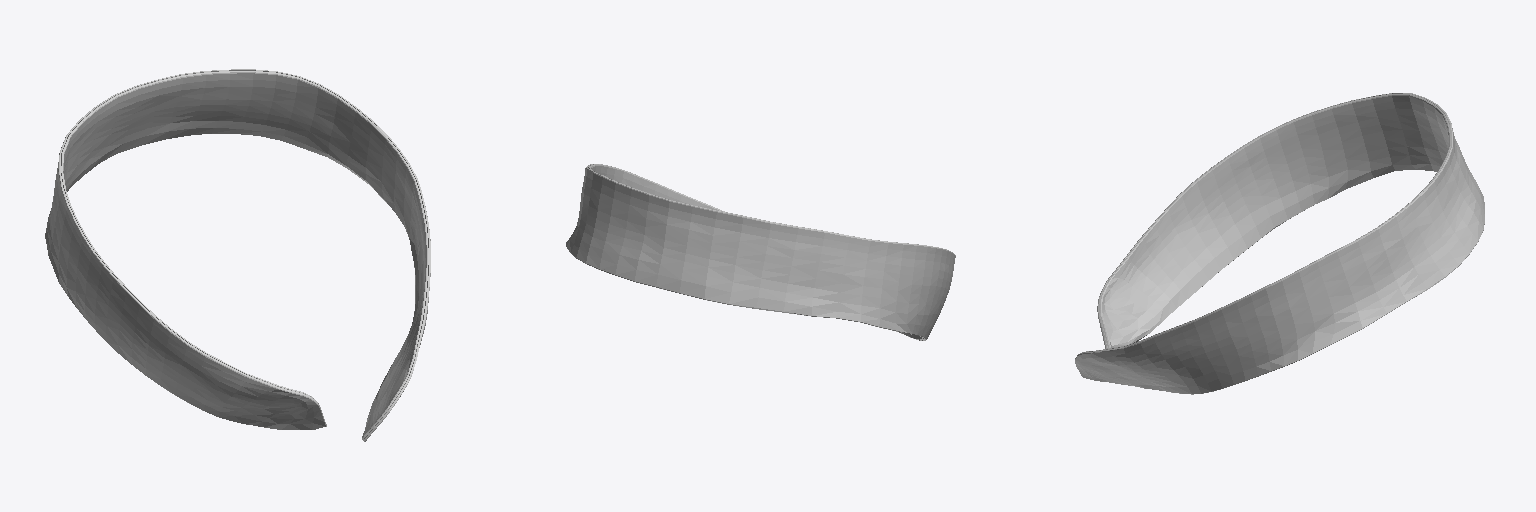
3 views of the same model, side by side, from view 1: azimuth 30°, elevation 25°; view 2: azimuth 150°, elevation 25°; view 3: azimuth 270°, elevation 25° (orthographic).
Visible parts, largest first — view 1: cropped:ZBrushPolyMesh3D1 cropped:polySurface529 polySurface655 ; view 2: cropped:ZBrushPolyMesh3D1 cropped:polySurface529 polySurface655 ; view 3: cropped:ZBrushPolyMesh3D1 cropped:polySurface529 polySurface655 .
Boxes of the visible parts, <box> form: cropped:ZBrushPolyMesh3D1 cropped:polySurface529 polySurface655 : <box>45,69,430,441</box>; cropped:ZBrushPolyMesh3D1 cropped:polySurface529 polySurface655 : <box>566,164,955,340</box>; cropped:ZBrushPolyMesh3D1 cropped:polySurface529 polySurface655 : <box>1075,93,1484,394</box>.
Size of the model in its own units: 14.16 by 9.44 by 15.12.